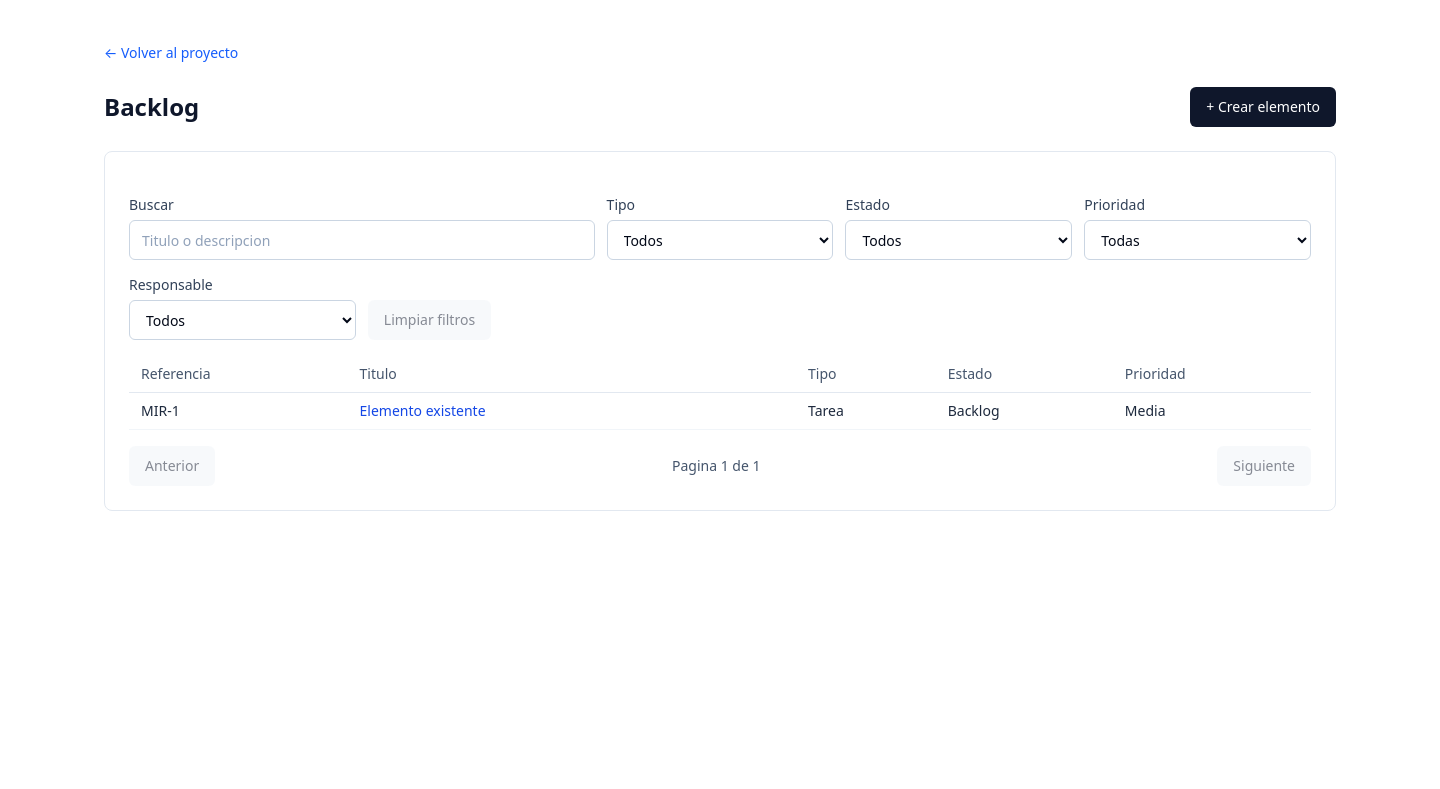
Test case: ProjectBacklogPage › OWNER puede abrir el formulario de creacion
Click the button "+ Crear elemento" at (1263, 107), box [1190,87,1336,127]
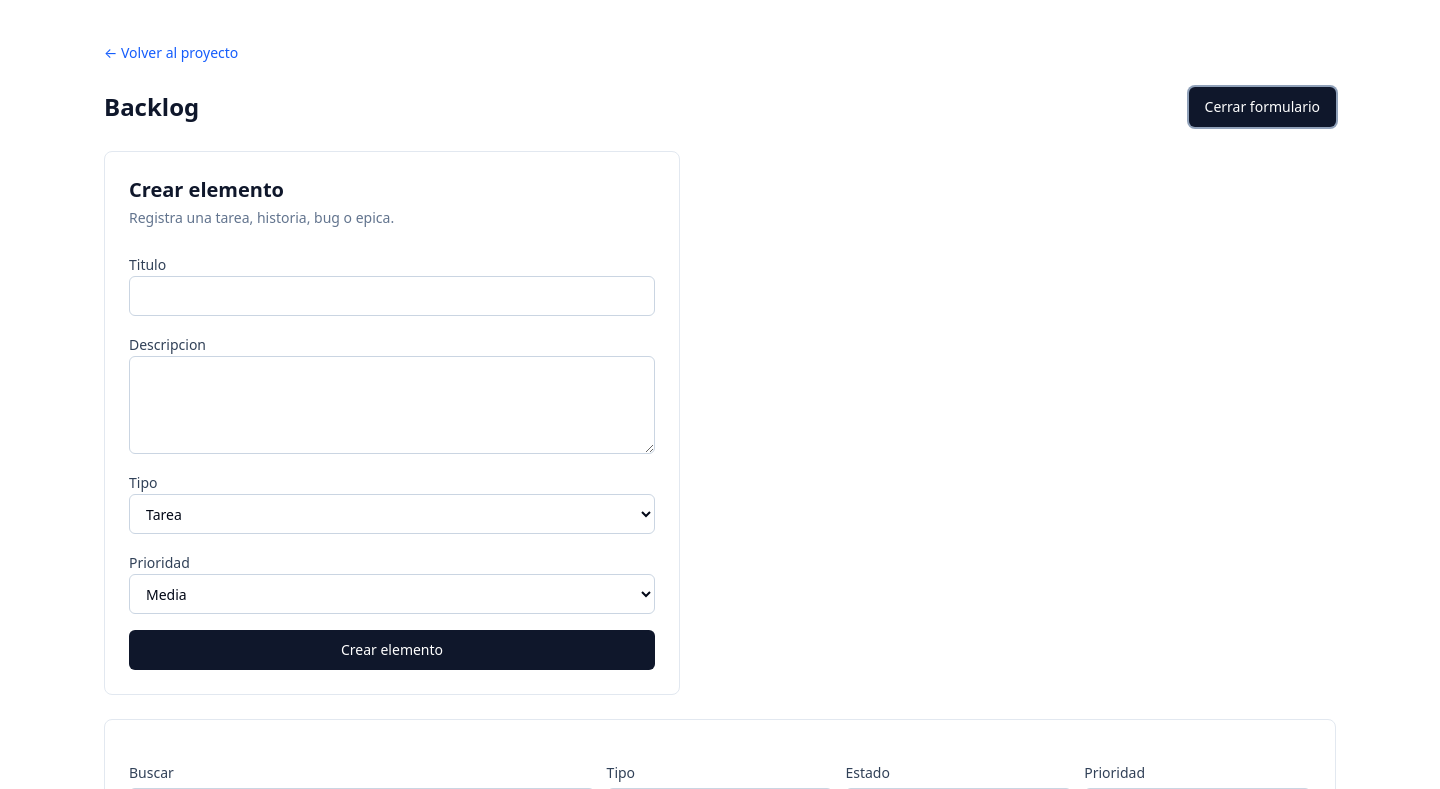
expect the field labelled "Titulo" is shown: met, box [129,276,655,316]
expect the text box labelled "Descripcion" is shown: met, box [129,356,655,454]
expect the button "Cerrar formulario" is expanded: met, box [1188,87,1336,127]
